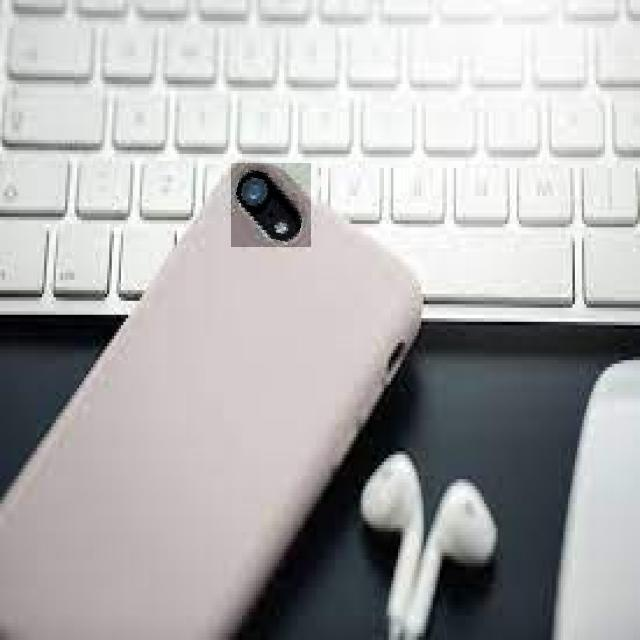Mobile: (0, 159, 429, 640)
